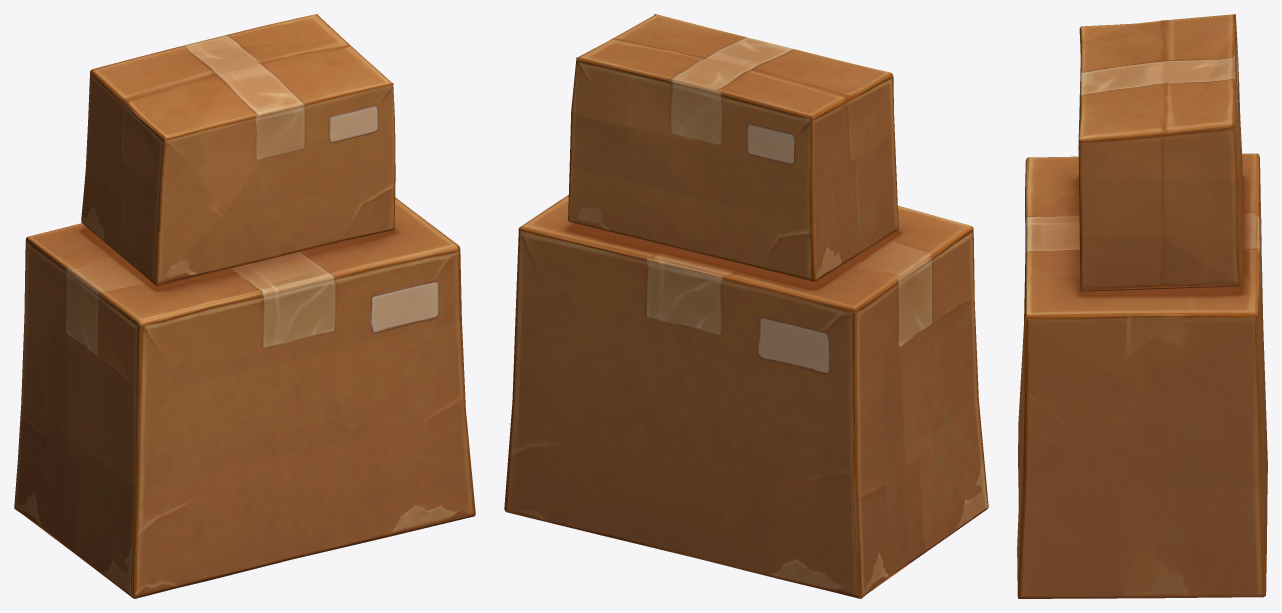
The model's file is stock-boxes.glb.
3 views of the same model, side by side, from view 1: azimuth 30°, elevation 25°; view 2: azimuth 150°, elevation 25°; view 3: azimuth 270°, elevation 25° (orthographic). The views are drawn at different scales.
Visible parts, largest first — view 1: geometry_0; view 2: geometry_0; view 3: geometry_0.
Part boxes in pixels (<box>): geometry_0: <box>14,14,475,598</box>; geometry_0: <box>504,14,988,598</box>; geometry_0: <box>1017,14,1267,598</box>.
Bounding box in the file's own units: 0.8182 × 0.9987 × 0.5054.
Materials: 1 (1 with a texture image).
